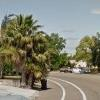Palm tree: (2, 7, 53, 67)
